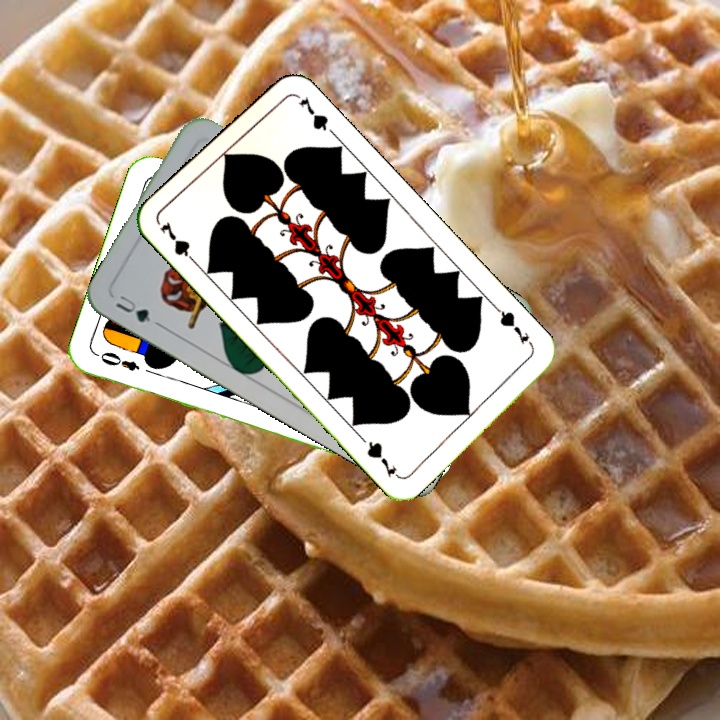EO: (91, 347, 142, 374)
G7: (155, 217, 201, 268), (491, 303, 537, 351)
GU: (111, 291, 154, 325)
